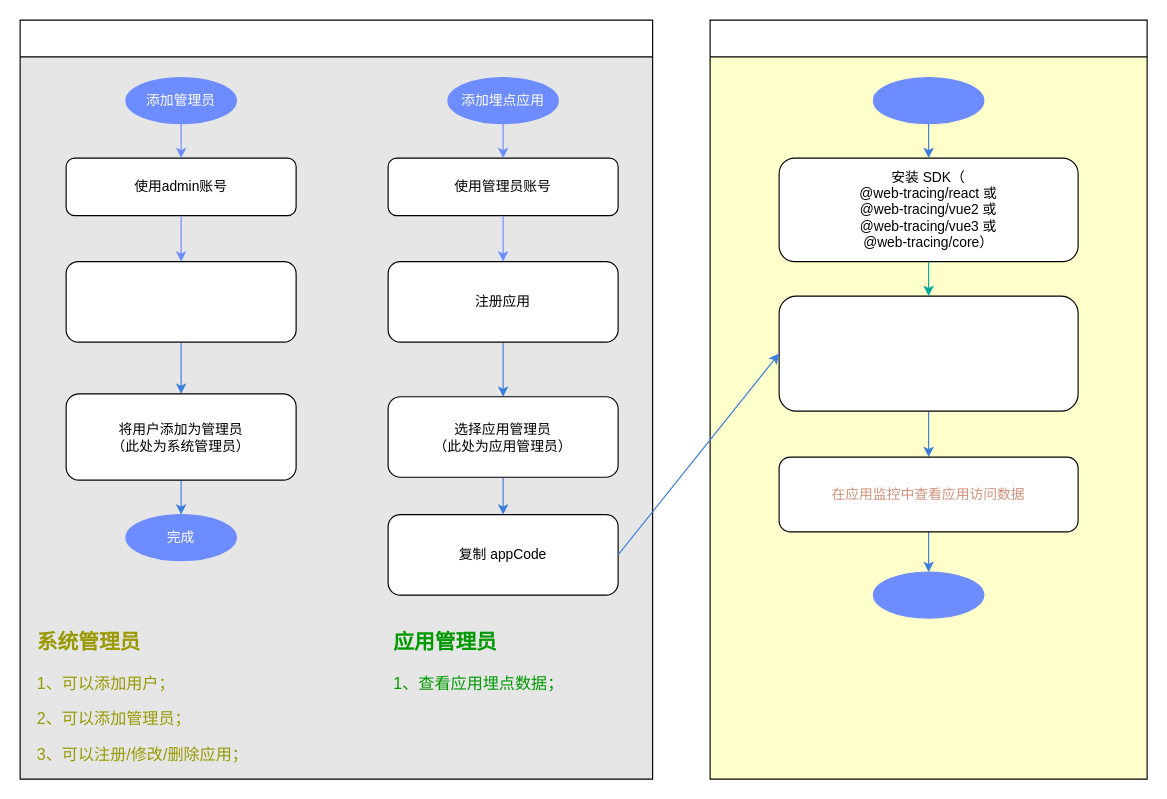
The diagram is 1167 pixels wide and 799 high, and some of its shapes have lost their labels. The shapes that lost their labels are listed below. From the top down, each one's box as (x1, y1, x2, y2) in pixels, then its label:
(872, 76, 984, 124): 前端开发者
(65, 260, 296, 342): 注册用户
(778, 295, 1078, 411): 配置 appCode / DSN 默认启用 PV/性能/异常 Analysis系统已 appCode 作为主要关联点
(19, 19, 653, 779): Web Tracing Analysis
(709, 19, 1147, 779): 我的应用（支持react、vue2、vue3、js）
(872, 571, 984, 618): 注册完成
